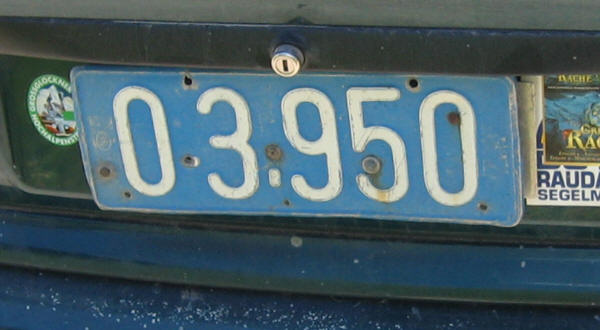license_plate: (72, 69, 522, 228)
